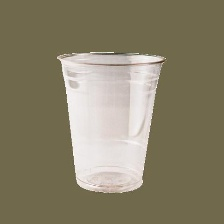glass: (55, 46, 169, 199)
